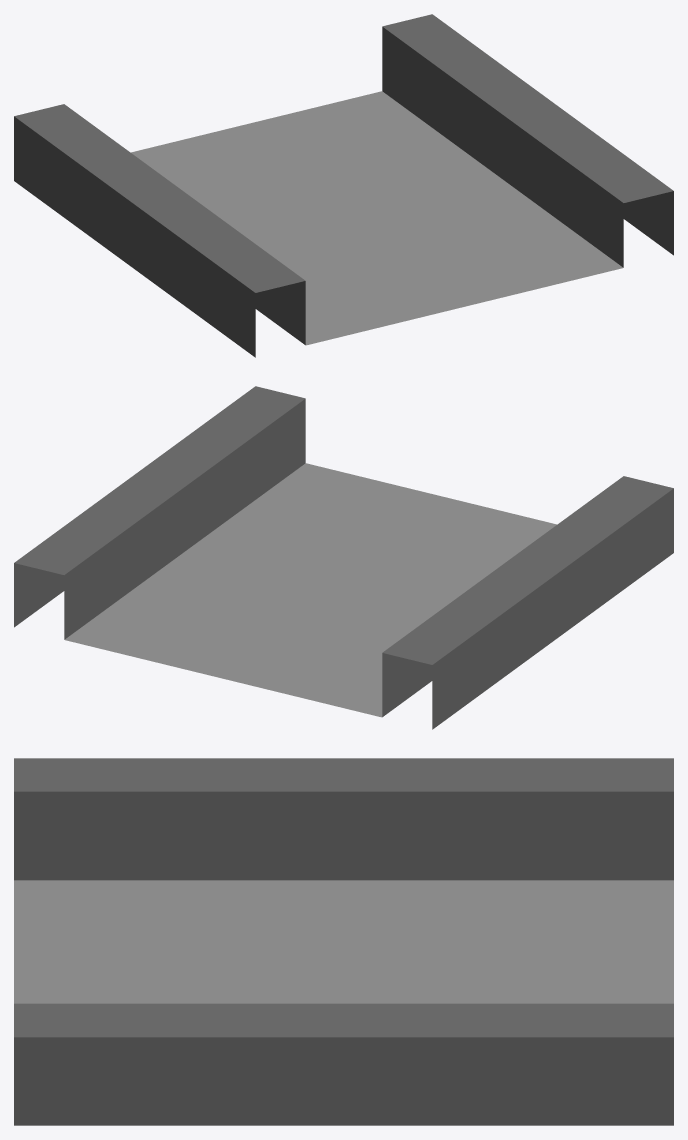
The model's file is Stairs_1_4_1.FBX.
3 views of the same model, one above another, from view 1: azimuth 30°, elevation 25°; view 2: azimuth 150°, elevation 25°; view 3: azimuth 270°, elevation 25° (orthographic). The views are drawn at different scales.
Parts seen in each view (by area): view 1: Stairs_1_4_1; view 2: Stairs_1_4_1; view 3: Stairs_1_4_1.
Boxes of the visible parts, box(x1,y1,x2,y2) form: Stairs_1_4_1: box(14, 14, 673, 357); Stairs_1_4_1: box(14, 386, 673, 729); Stairs_1_4_1: box(14, 758, 673, 1125).
Bounding box in the file's own units: 160 × 23.62 × 160.
Materials: 1 (1 with a texture image).
